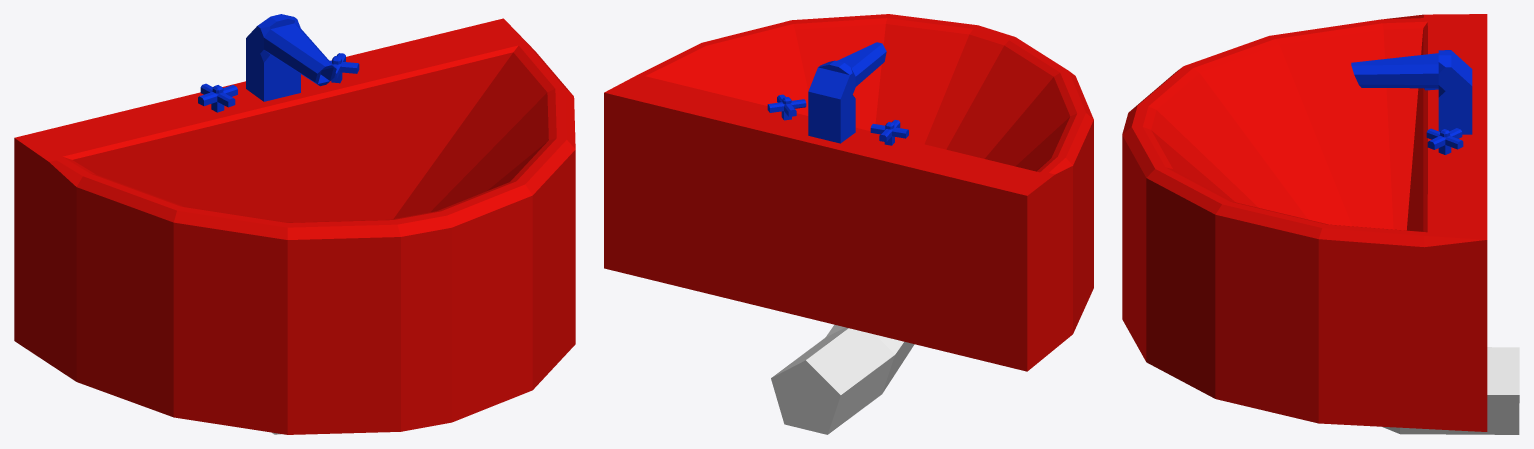
Rendered from sink.fbx.
The picture shows the model from 3 angles, left to right: view 1: azimuth 30°, elevation 25°; view 2: azimuth 150°, elevation 25°; view 3: azimuth 270°, elevation 25°; orthographic projection. The views are drawn at different scales.
Parts seen in each view (by area): view 1: Cylinder; view 2: Cylinder, Cylinder.002; view 3: Cylinder, Cylinder.002.
Part boxes in pixels (left/top/right/bottom): Cylinder: left=14, top=14, right=575, bottom=434; Cylinder: left=604, top=14, right=1093, bottom=371; Cylinder.002: left=771, top=324, right=914, bottom=434; Cylinder: left=1122, top=14, right=1487, bottom=431; Cylinder.002: left=1382, top=347, right=1519, bottom=434.
Bounding box in the file's own units: 0.658 × 0.5055 × 0.4895.
